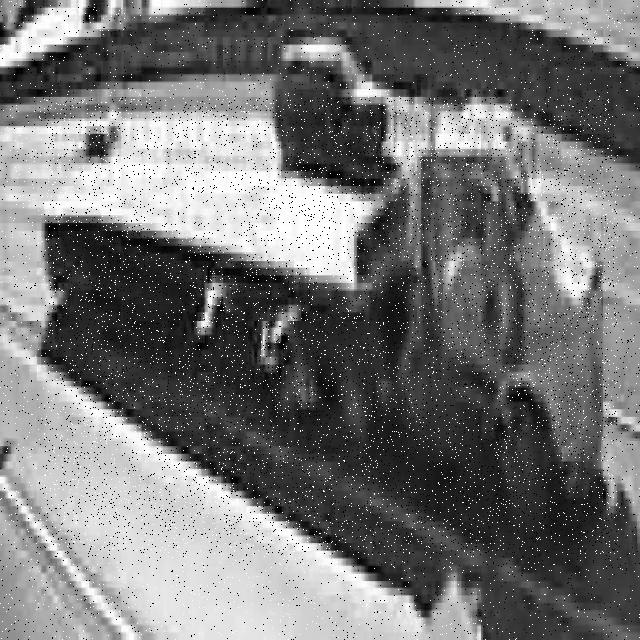Box Truck: (44, 98, 618, 555)
